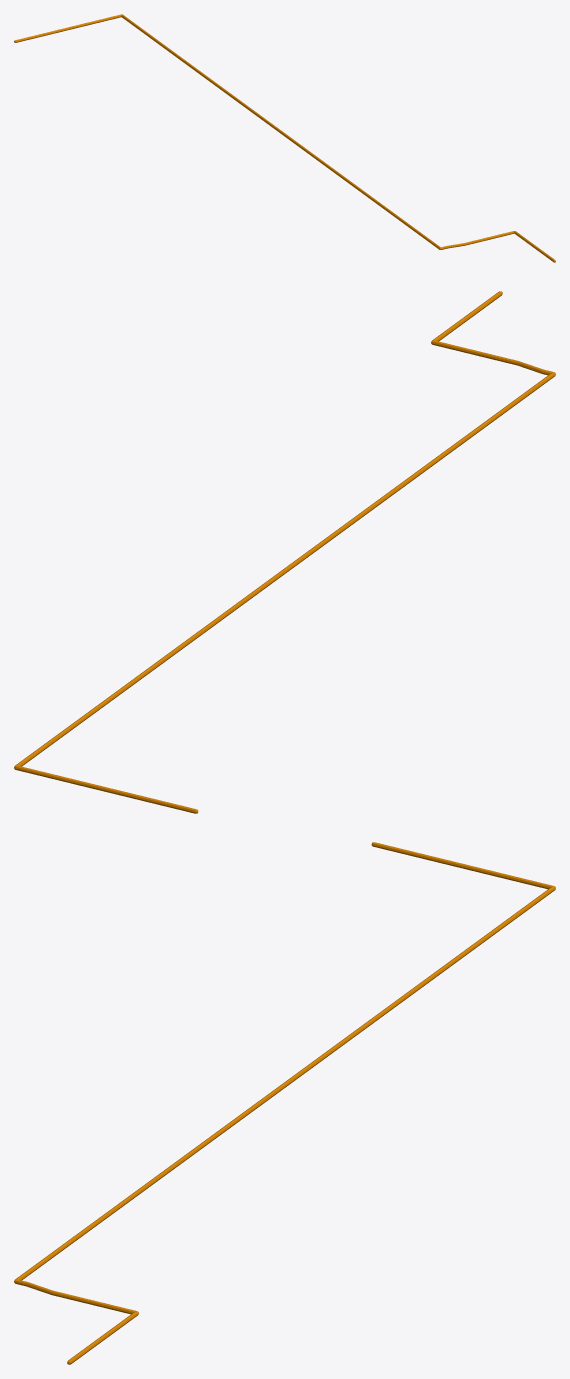
3 views of the same model, one above another, from view 1: azimuth 30°, elevation 25°; view 2: azimuth 150°, elevation 25°; view 3: azimuth 330°, elevation 25° (orthographic). The views are drawn at different scales.
Bounding box in the file's own units: 1451 × 20 × 4991.
